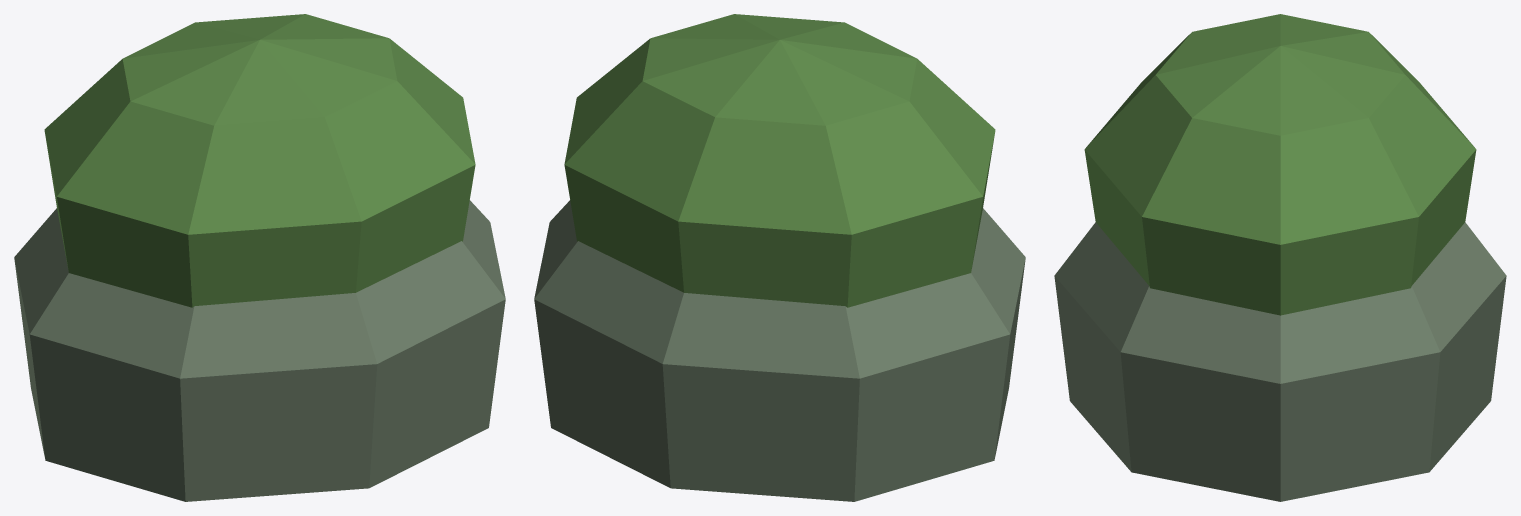
Rendered from env_r6_mossy_boulder.glb.
The picture shows the model from 3 angles, left to right: view 1: azimuth 30°, elevation 25°; view 2: azimuth 150°, elevation 25°; view 3: azimuth 270°, elevation 25°; orthographic projection. The views are drawn at different scales.
Parts seen in each view (by area): view 1: env_r6_mossy_boulder; view 2: env_r6_mossy_boulder; view 3: env_r6_mossy_boulder.
Boxes of the visible parts, x1=… form: env_r6_mossy_boulder: x1=14, y1=14, x2=505, y2=501; env_r6_mossy_boulder: x1=534, y1=14, x2=1025, y2=501; env_r6_mossy_boulder: x1=1054, y1=14, x2=1506, y2=501.
Size of the model in its own units: 1.7 by 1.3 by 1.5.
1 material, 1 textured.
